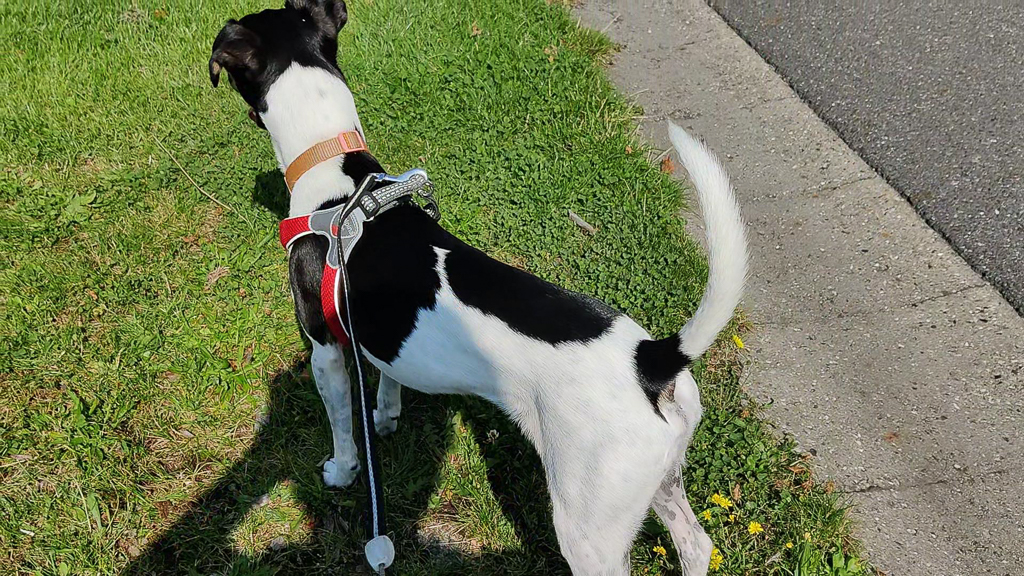Dog: (197, 0, 761, 576)
